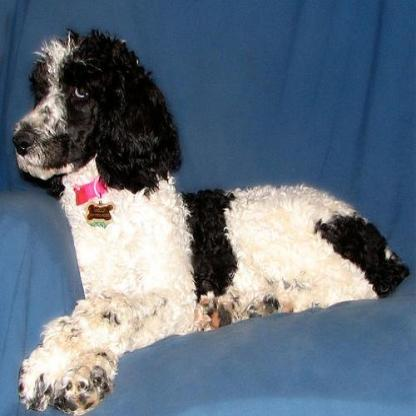standard_poodle: (8, 20, 410, 412)
